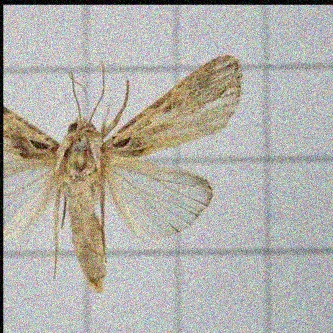Spodoptera litura: (4, 54, 243, 292)
